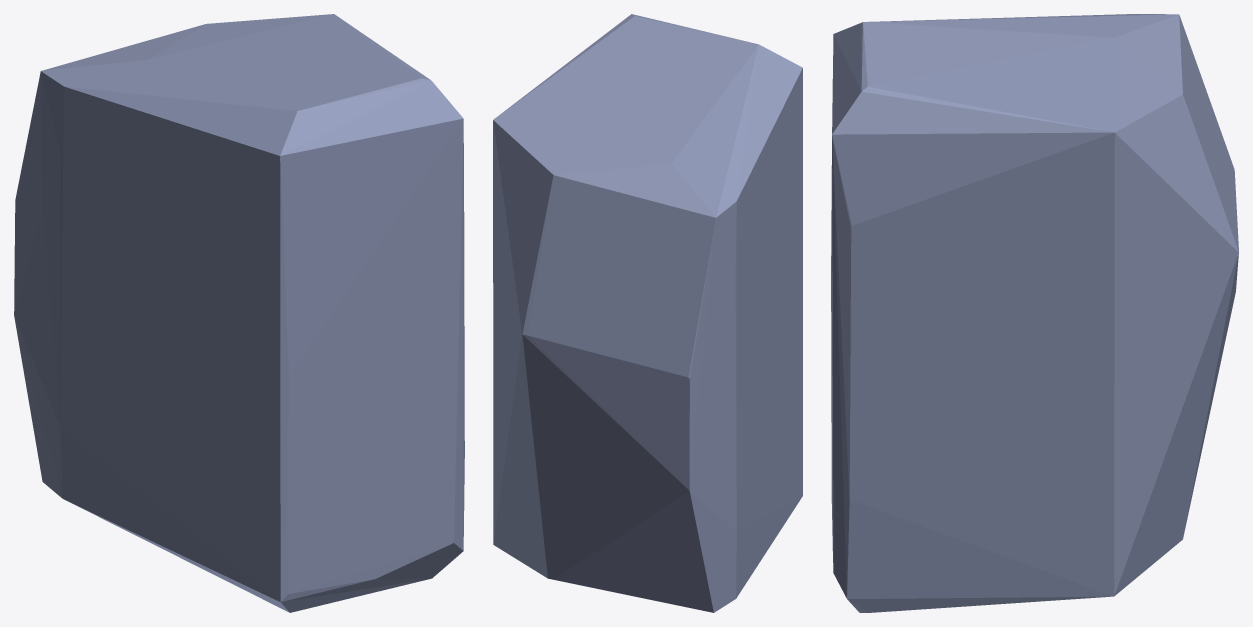
File: equipment_rolling_tool_cabinet_heavyDuty_b01.glb
3 views of the same model, side by side, from view 1: azimuth 30°, elevation 25°; view 2: azimuth 150°, elevation 25°; view 3: azimuth 270°, elevation 25° (orthographic). The views are drawn at different scales.
Visible parts, largest first — view 1: geometry_0; view 2: geometry_0; view 3: geometry_0.
Boxes of the visible parts, bbox=[...] form: geometry_0: bbox=[14, 14, 464, 612]; geometry_0: bbox=[493, 14, 802, 612]; geometry_0: bbox=[831, 14, 1238, 612].
Size of the model in its own units: 0.2677 by 0.4787 by 0.3366.
